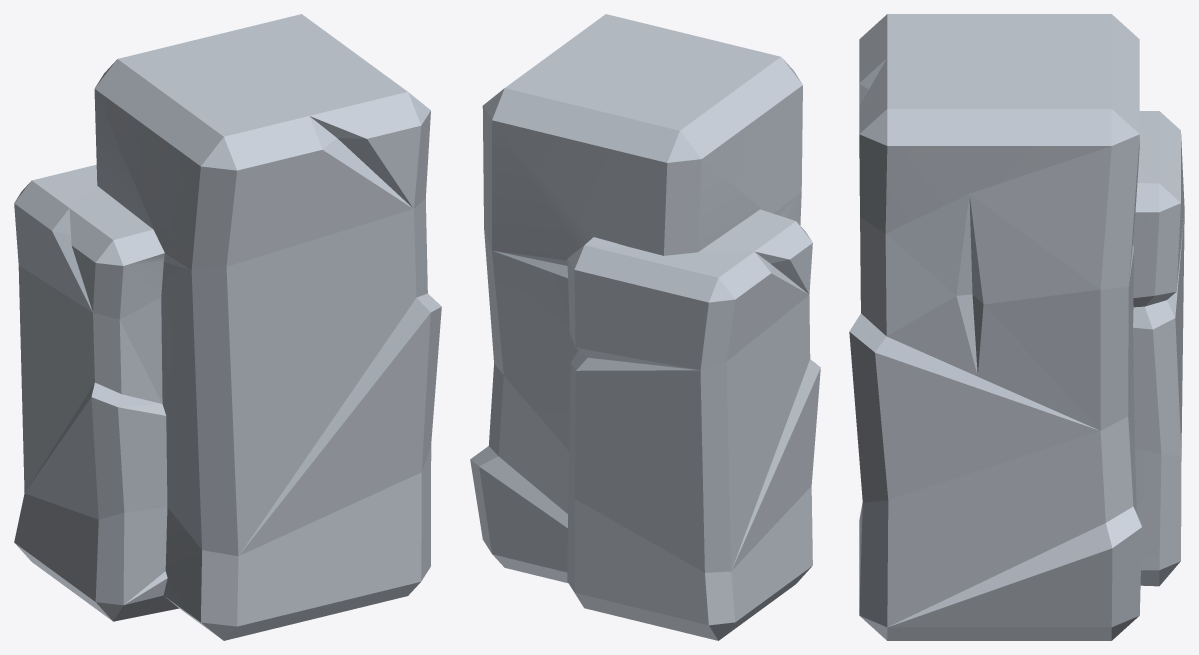
Rendered from model_polytope_rock_tall04.fbx.
The picture shows the model from 3 angles, left to right: view 1: azimuth 30°, elevation 25°; view 2: azimuth 150°, elevation 25°; view 3: azimuth 270°, elevation 25°; orthographic projection. The views are drawn at different scales.
Visible parts, largest first — view 1: model_polytope_rock_tall04; view 2: model_polytope_rock_tall04; view 3: model_polytope_rock_tall04.
Boxes of the visible parts, bbox=[...] form: model_polytope_rock_tall04: bbox=[14, 14, 441, 640]; model_polytope_rock_tall04: bbox=[470, 14, 820, 640]; model_polytope_rock_tall04: bbox=[849, 14, 1184, 640].
Size of the model in its own units: 438 by 686 by 392.
